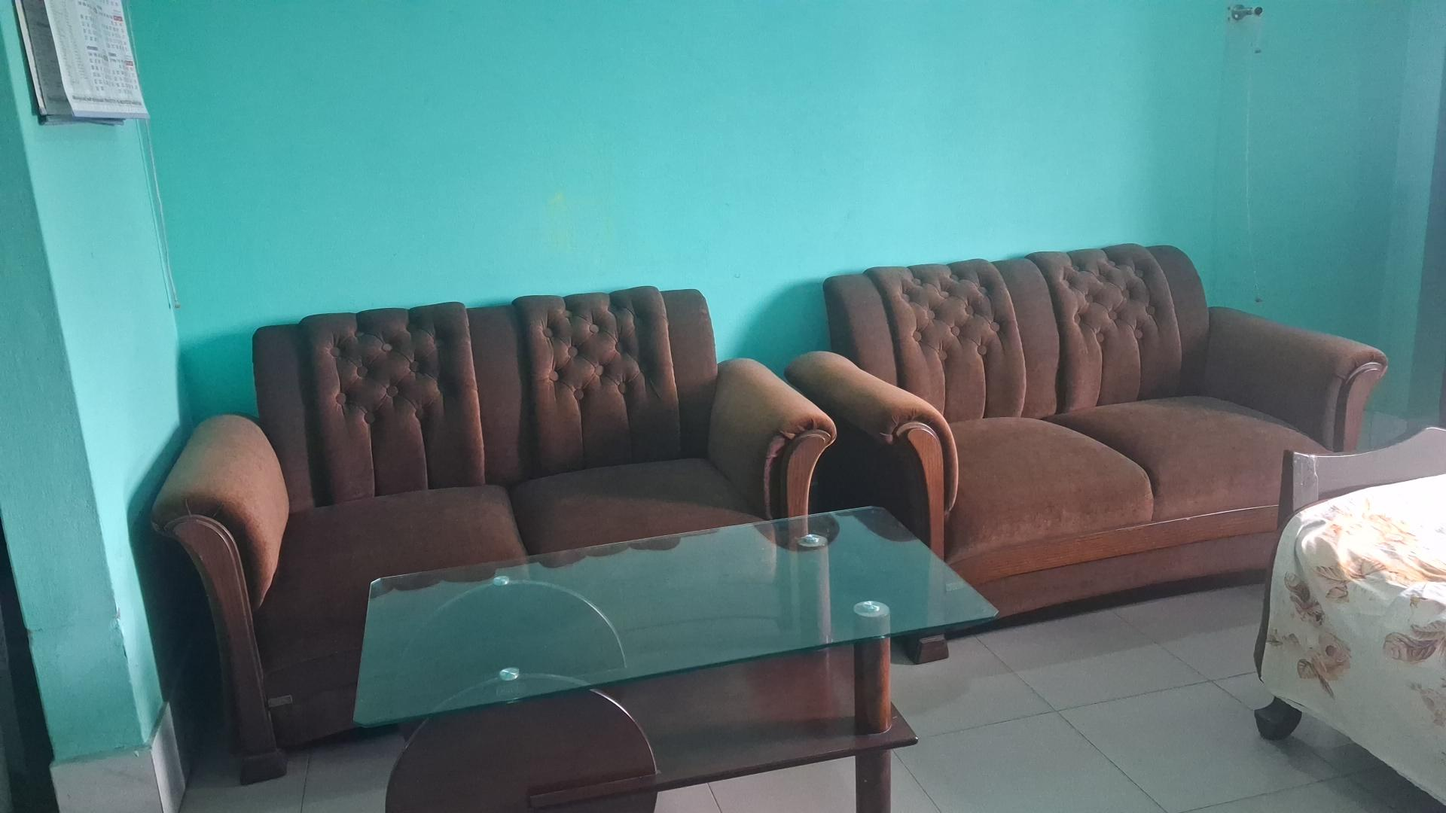Table: (347, 503, 996, 813)
